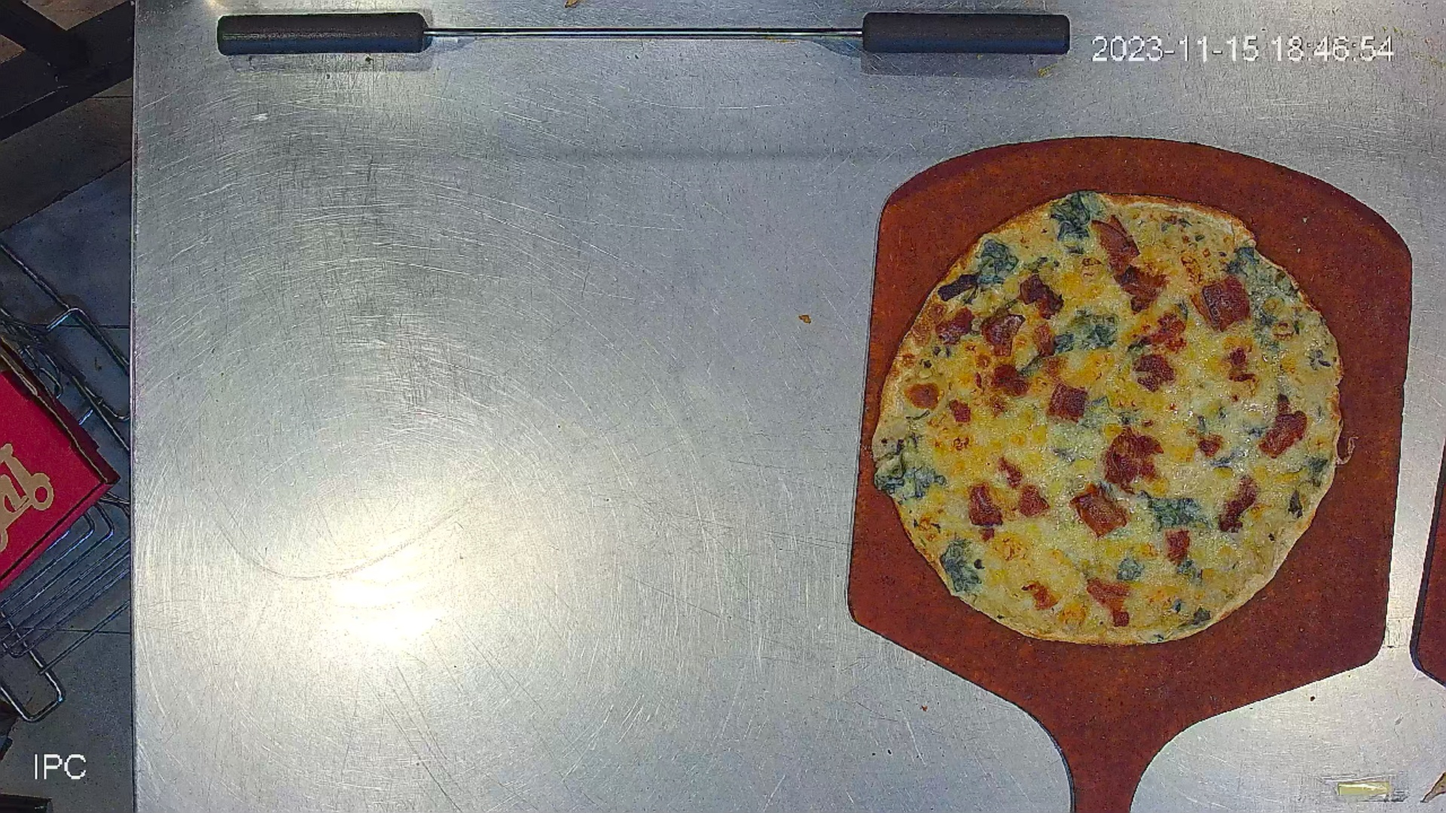pepporoni: (869, 193, 1346, 652)
